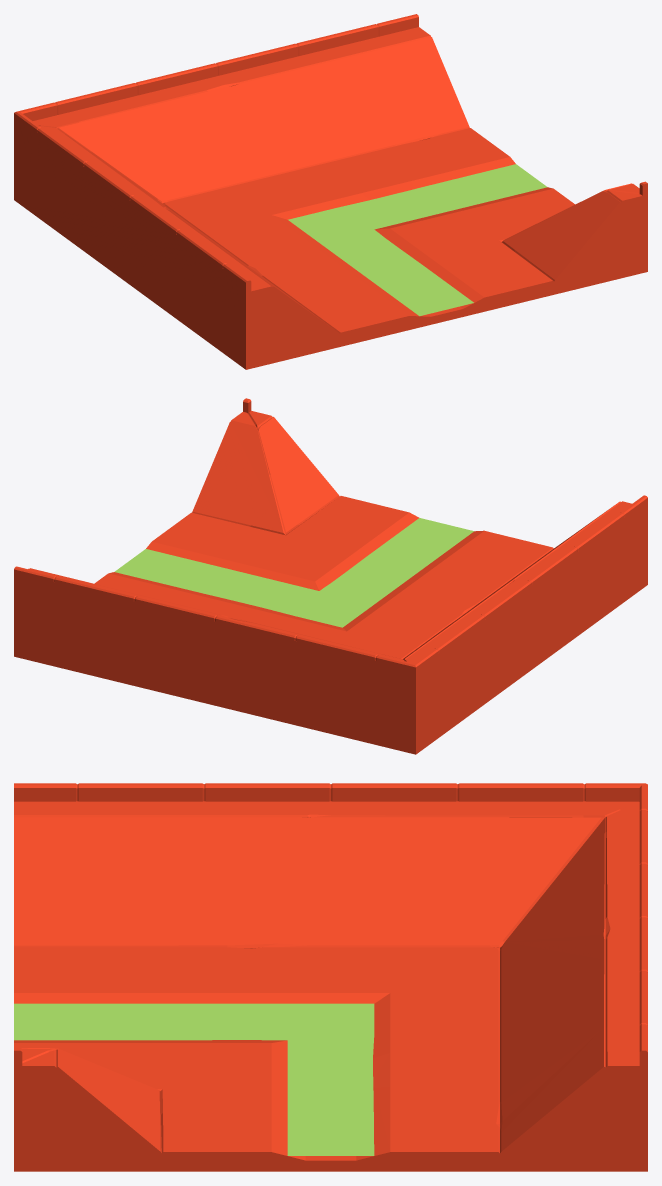
File: SM_Canal_Corner_City.fbx
3 renders of one model, top to bottom at view 1: azimuth 30°, elevation 25°; view 2: azimuth 150°, elevation 25°; view 3: azimuth 270°, elevation 25°, orthographic. The views are drawn at different scales.
Parts seen in each view (by area): view 1: SM_Canal_Corner_City; view 2: SM_Canal_Corner_City; view 3: SM_Canal_Corner_City.
Part boxes in pixels (x1=…): SM_Canal_Corner_City: x1=14, y1=14, x2=647, y2=369; SM_Canal_Corner_City: x1=14, y1=398, x2=647, y2=754; SM_Canal_Corner_City: x1=14, y1=783, x2=647, y2=1171.
Bounding box in the file's own units: 30 × 6.32 × 30.
